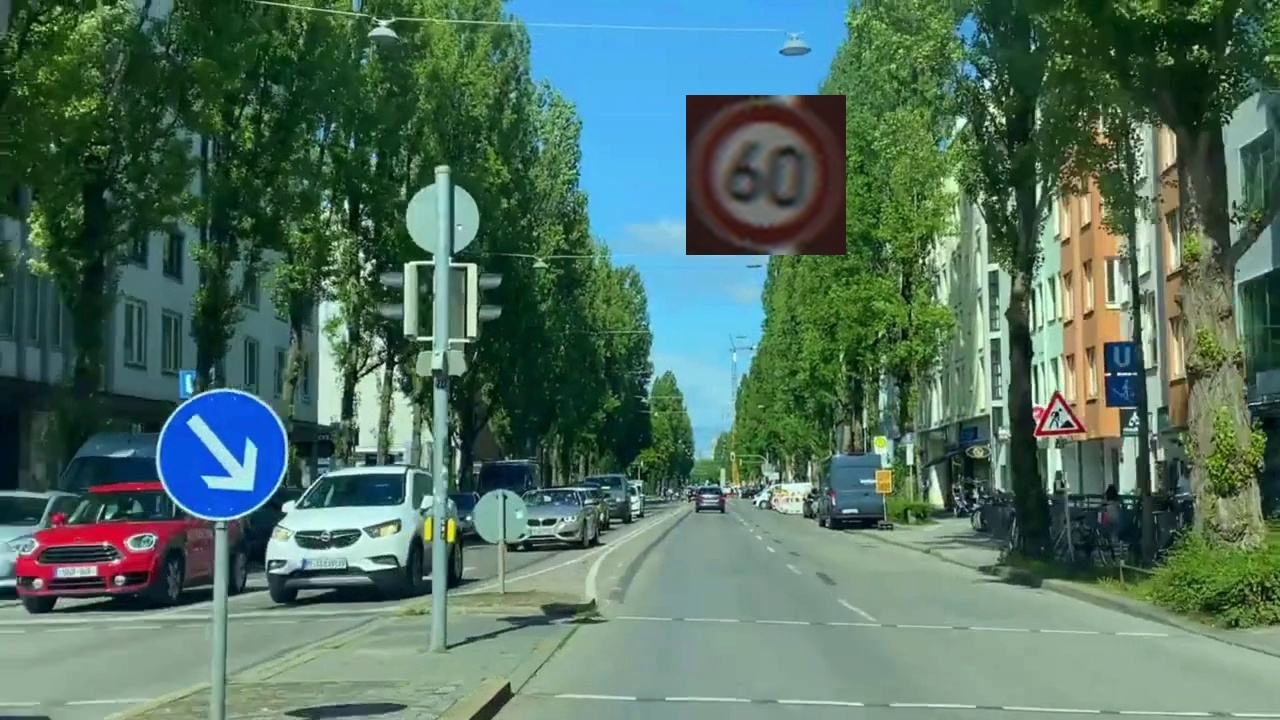Speed 60: (686, 95, 846, 255)
